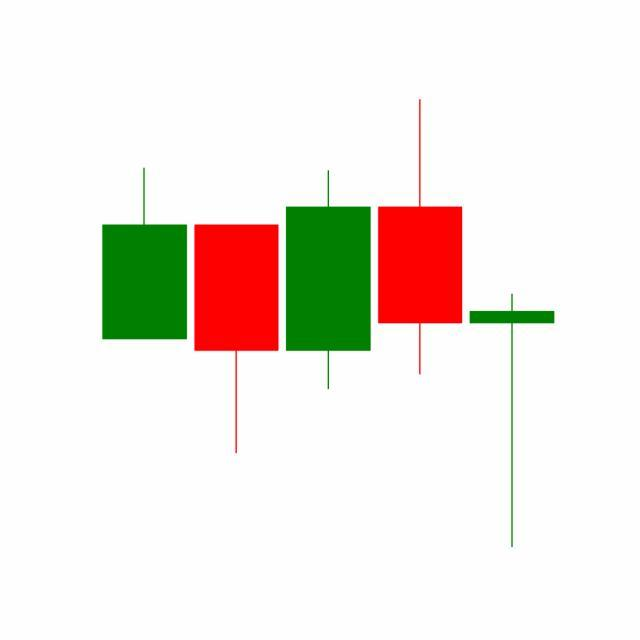Dragonfly Doji: (466, 292, 559, 552)
